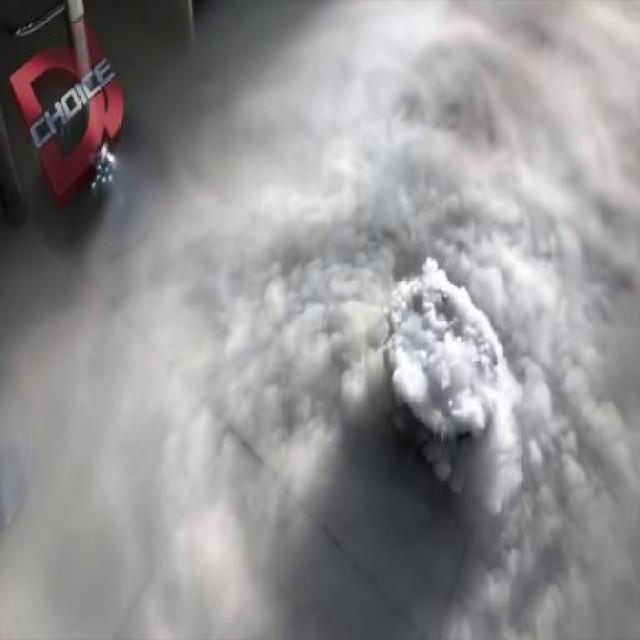smoke: (344, 168, 584, 566)
